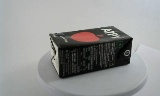appy: (44, 26, 124, 79)
